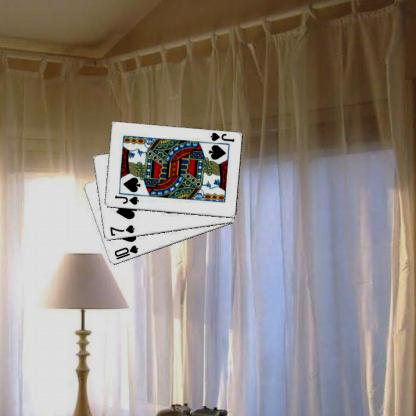10S: (112, 243, 140, 261)
7S: (108, 223, 136, 237)
JS: (112, 194, 140, 206), (208, 131, 235, 143)
